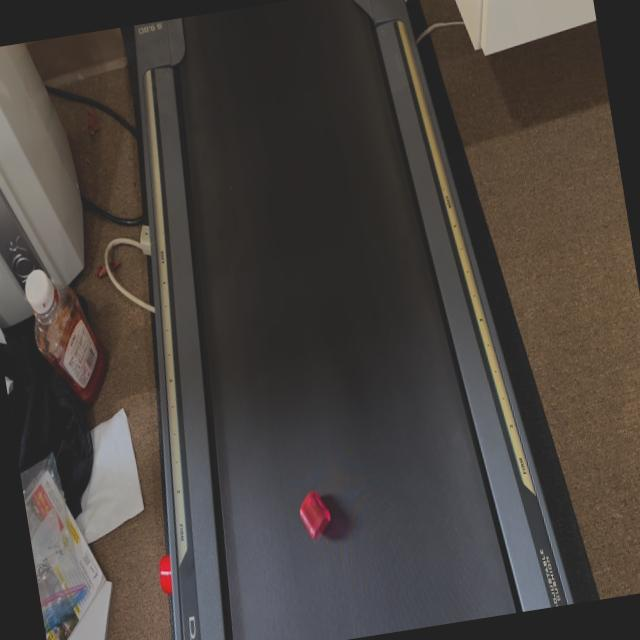Trash: (294, 484, 334, 540)
